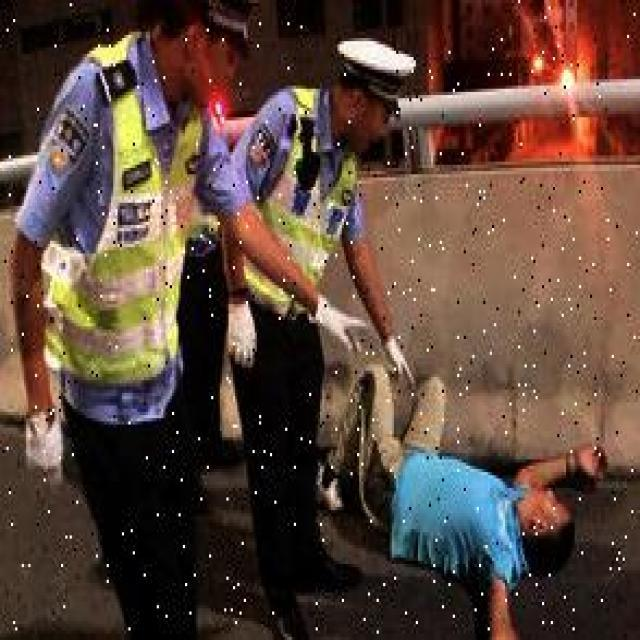fall: (329, 364, 605, 636)
